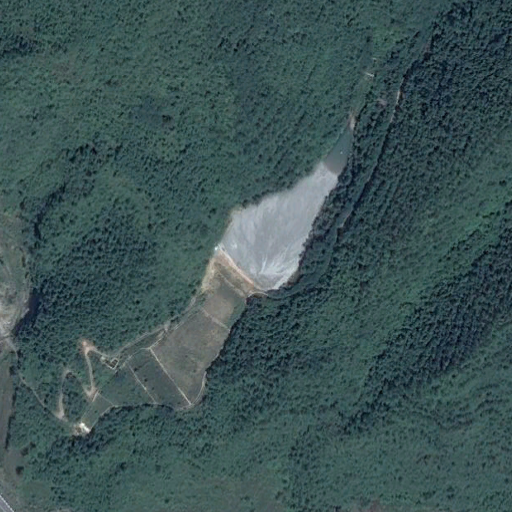tp: (75, 124, 361, 437)
